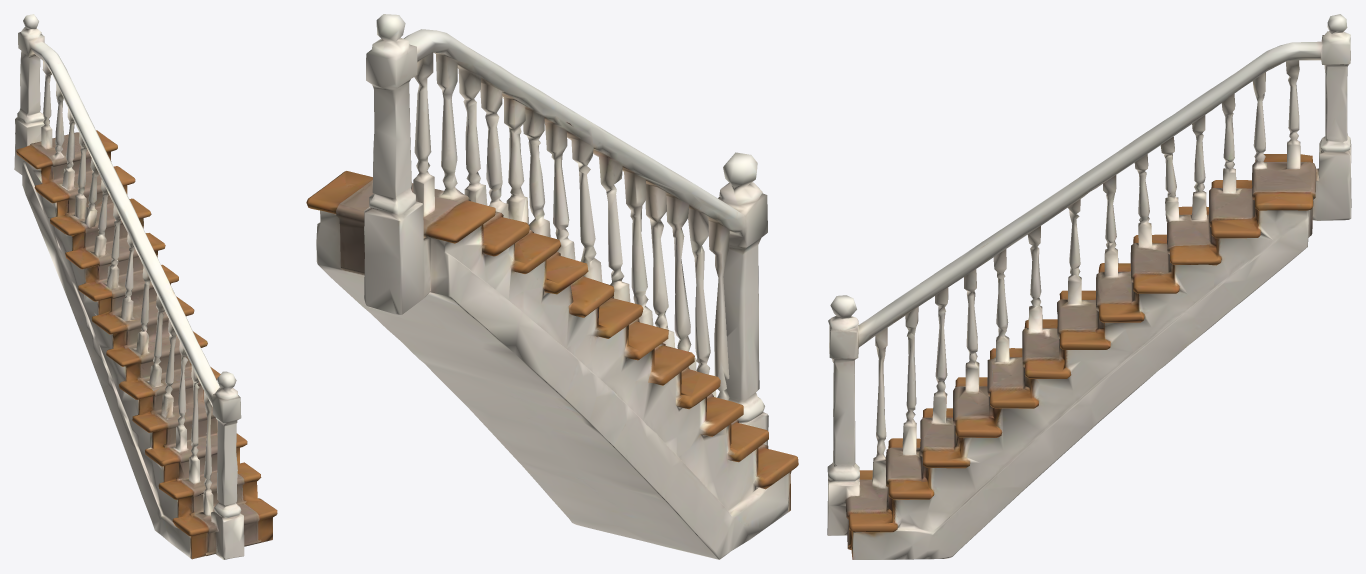
Rendered from kit-stairs.glb.
3 renders of one model, left to right at view 1: azimuth 30°, elevation 25°; view 2: azimuth 150°, elevation 25°; view 3: azimuth 270°, elevation 25°, orthographic. The views are drawn at different scales.
Visible parts, largest first — view 1: stairs; view 2: stairs; view 3: stairs.
Part boxes in pixels (box(x1,y1,x2,y2)): stairs: box(14, 14, 277, 559); stairs: box(306, 14, 798, 559); stairs: box(827, 14, 1351, 559).
Size of the model in its own units: 0.9982 by 4.29 by 3.98.
1 material, 1 textured.
